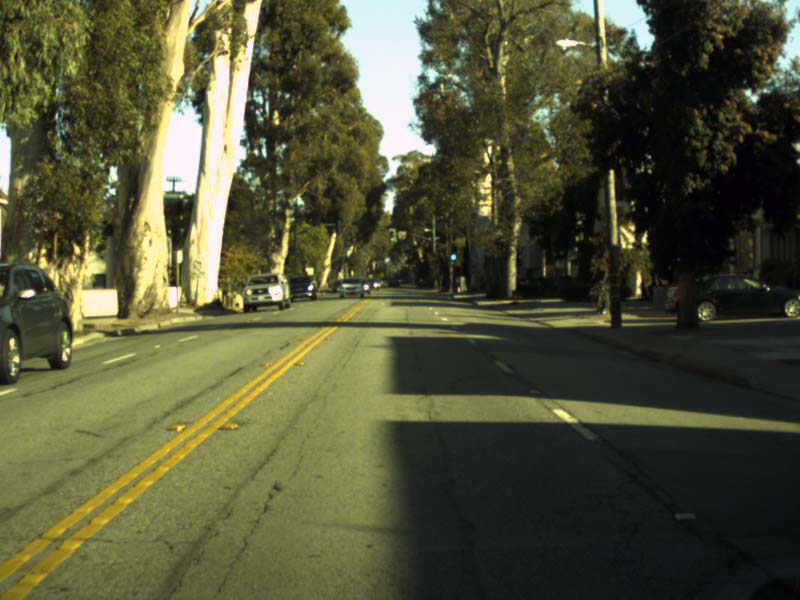Green: (388, 228, 395, 242), (451, 245, 457, 260)
